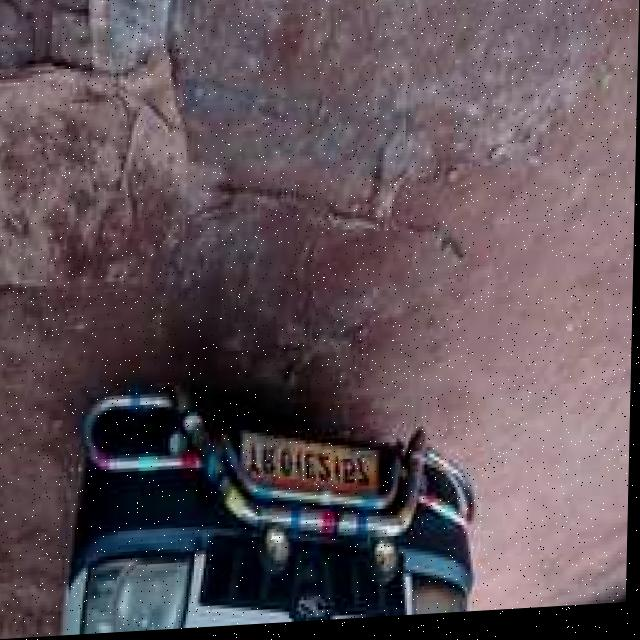plate: (236, 430, 385, 510)
